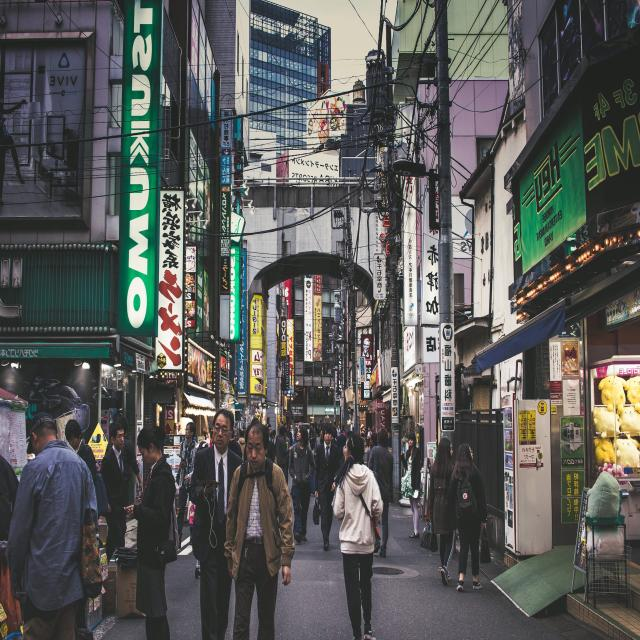adult: (9, 411, 95, 640), (225, 420, 295, 640), (124, 423, 178, 640), (192, 409, 241, 640), (333, 433, 384, 640), (448, 444, 485, 592), (426, 438, 455, 586), (103, 423, 129, 559), (316, 424, 340, 556), (288, 424, 314, 544), (369, 427, 393, 557), (176, 422, 199, 548), (400, 434, 423, 542), (64, 418, 95, 474)
